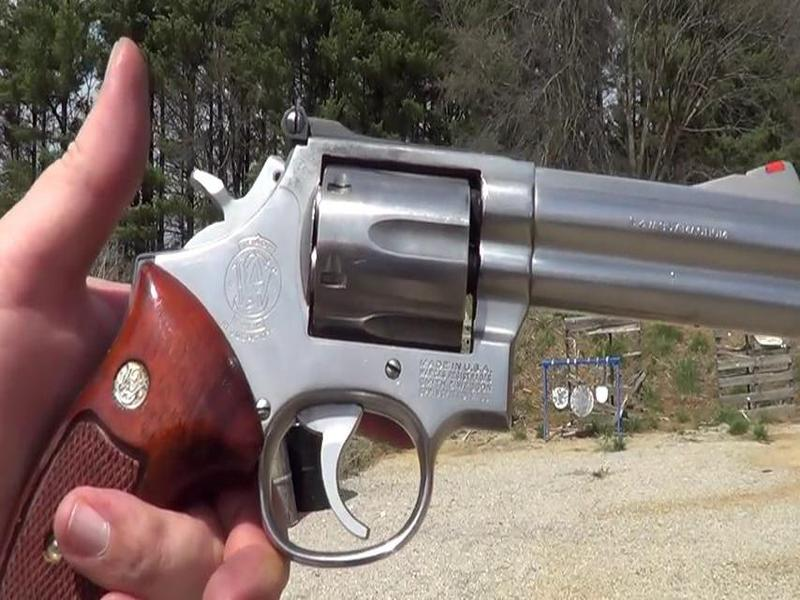Revolver: (111, 114, 800, 578)
